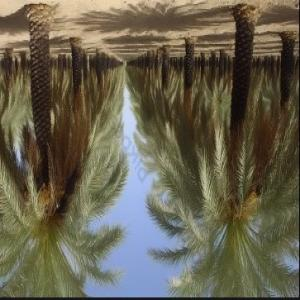palm tree: (126, 1, 299, 296), (0, 1, 128, 296)
